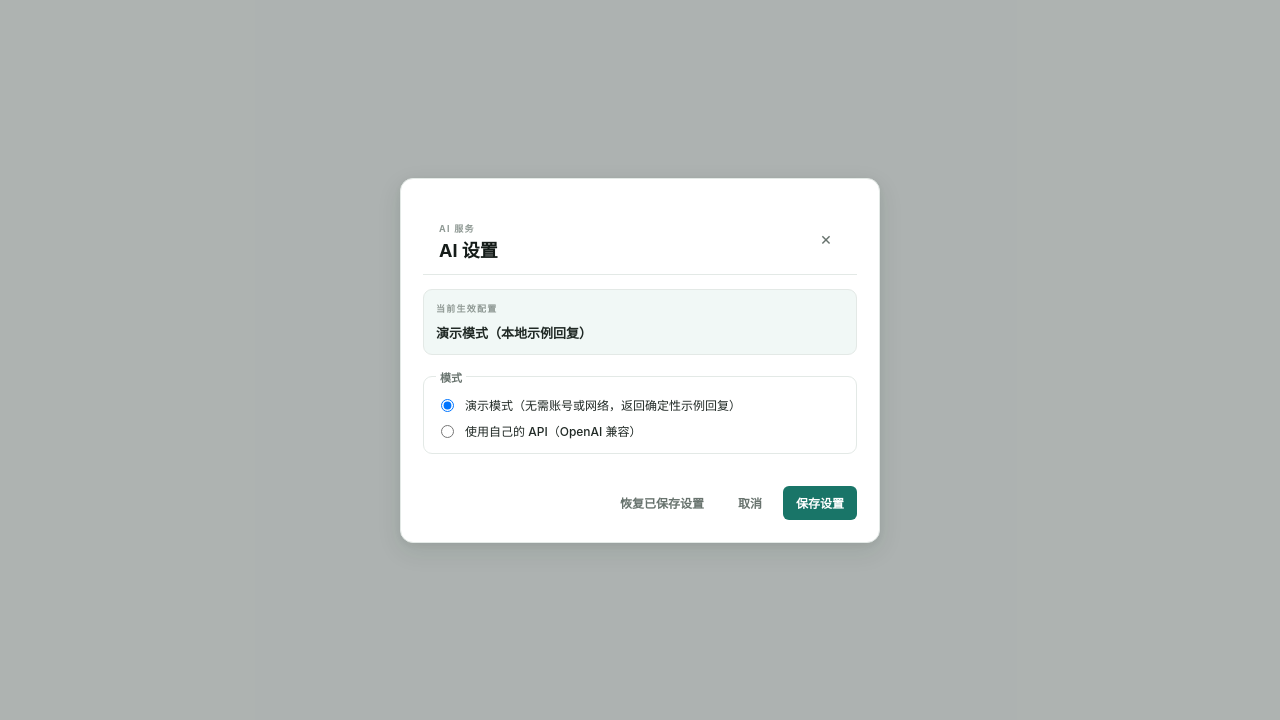
Test: AiSettingsDialog › translates a stable error code on save failure and keeps the form
The width and height of the screenshot is (1280, 720).
Expected: the radio button labelled "演示模式（无需账号或网络，返回确定性示例回复）" is shown, [441, 398, 454, 412]
Click the radio button labelled "使用自己的 API（OpenAI 兼容）": point(448, 431) [441, 424, 454, 438]
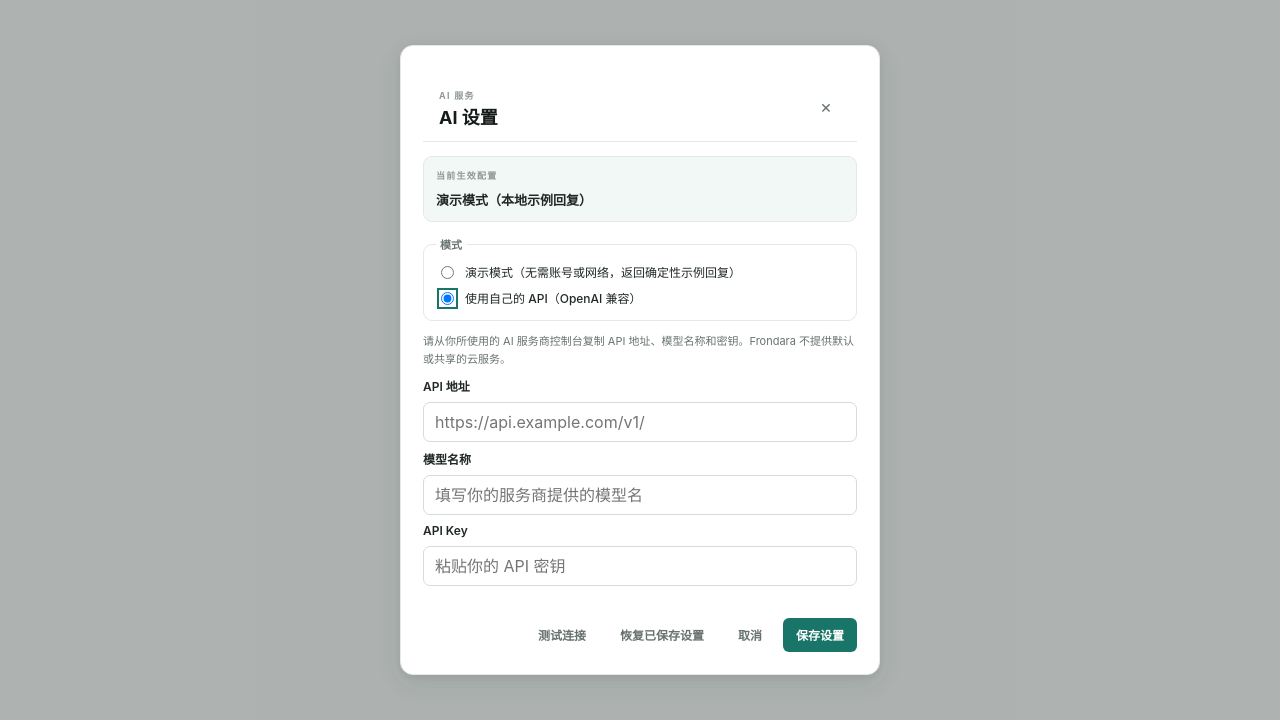
In the field labelled "API 地址": point(640, 422) [423, 402, 857, 442], type "https://api.example.com/v1"
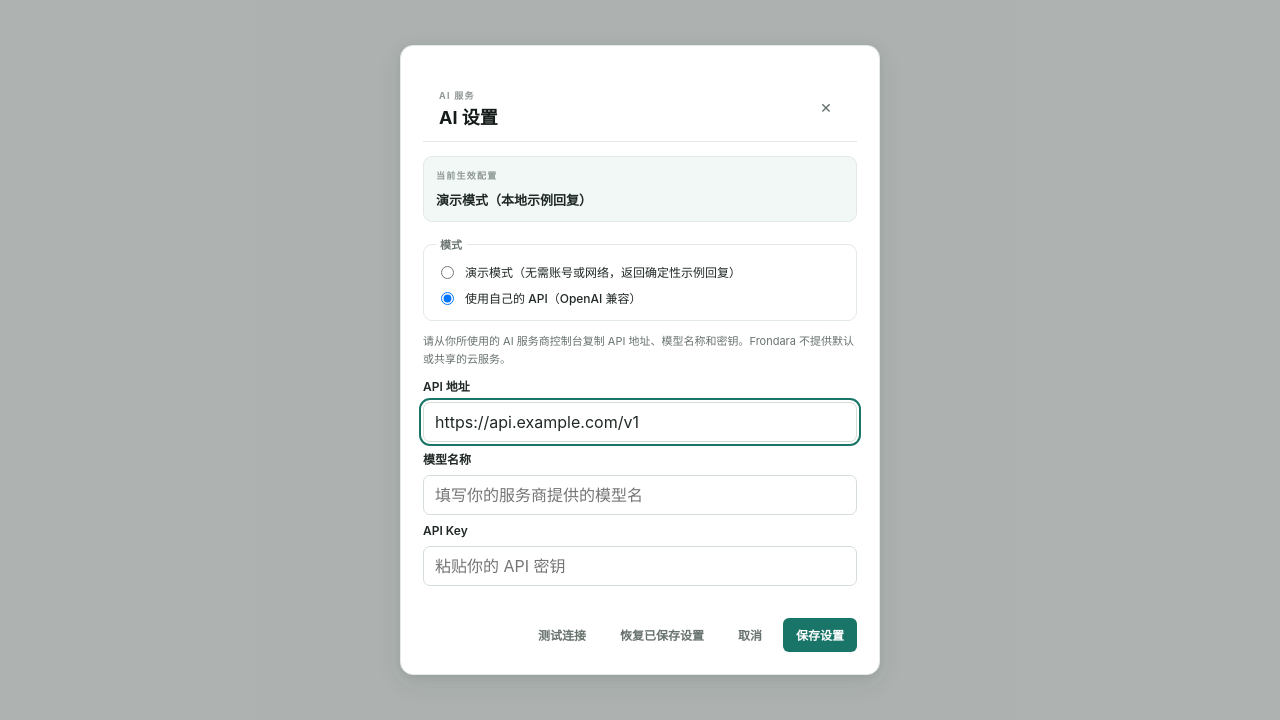
In the field labelled "模型名称": point(640, 495) [423, 475, 857, 515], type "demo-model"
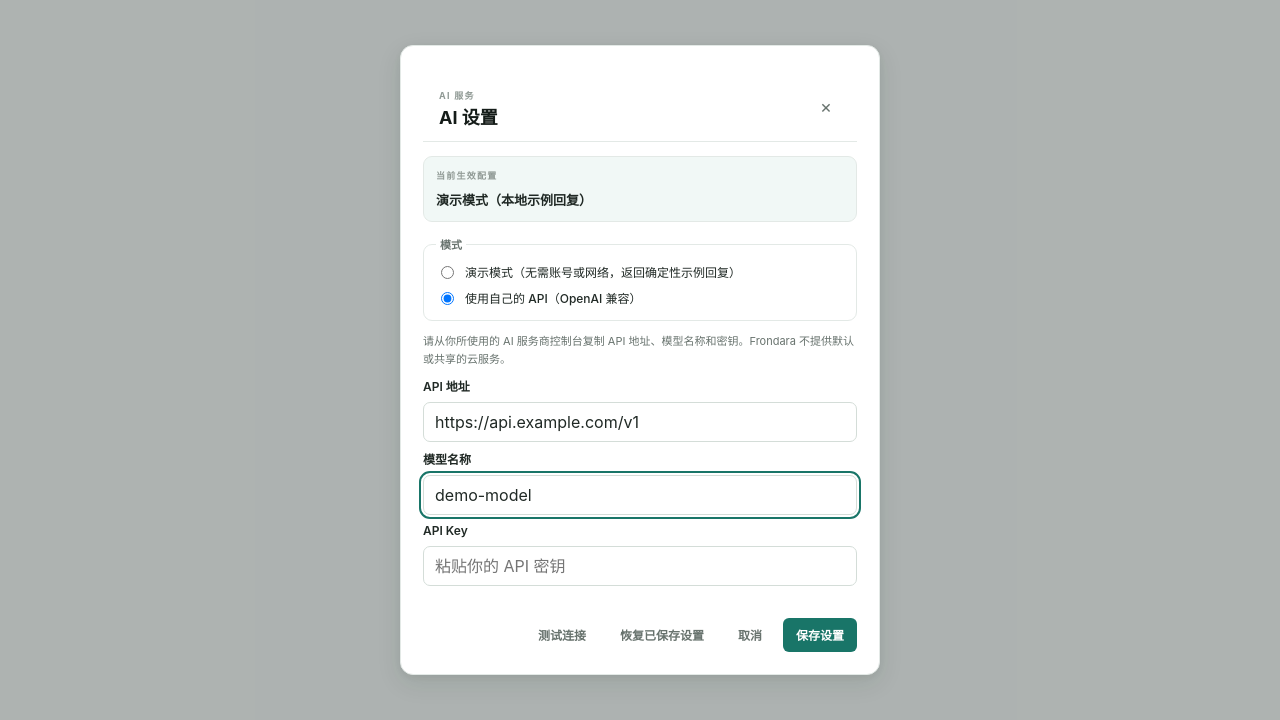
In the password field labelled "API Key": point(640, 566) [423, 546, 857, 586], type "bad-key"
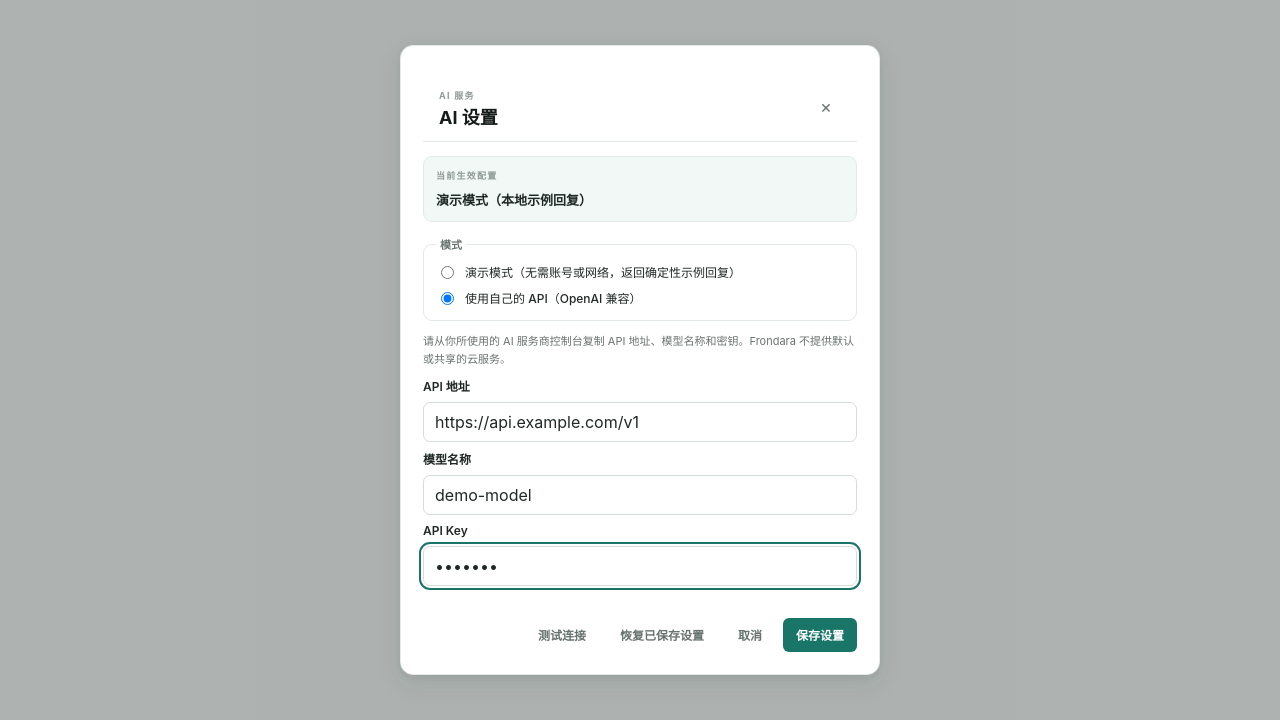
Click the button "保存设置": point(820, 635) [783, 618, 857, 652]
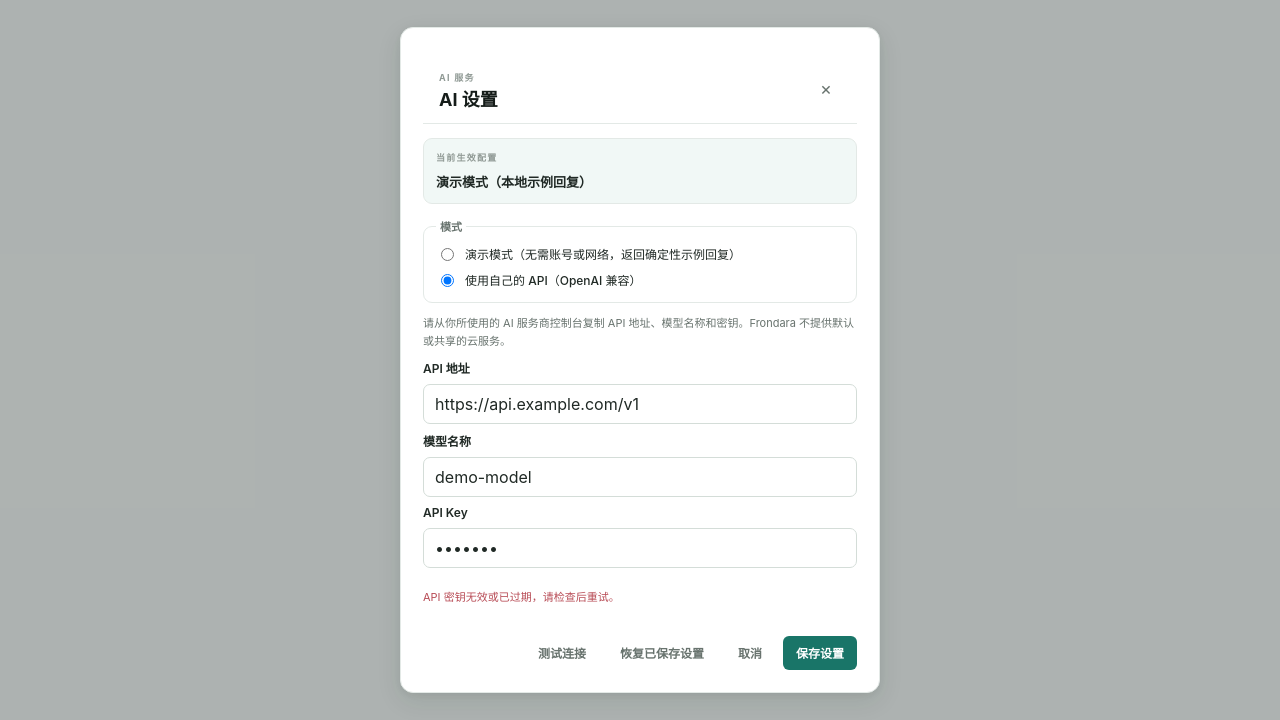
Now the text "API 密钥无效或已过期，请检查后重试。" is shown, box [423, 590, 620, 604]
